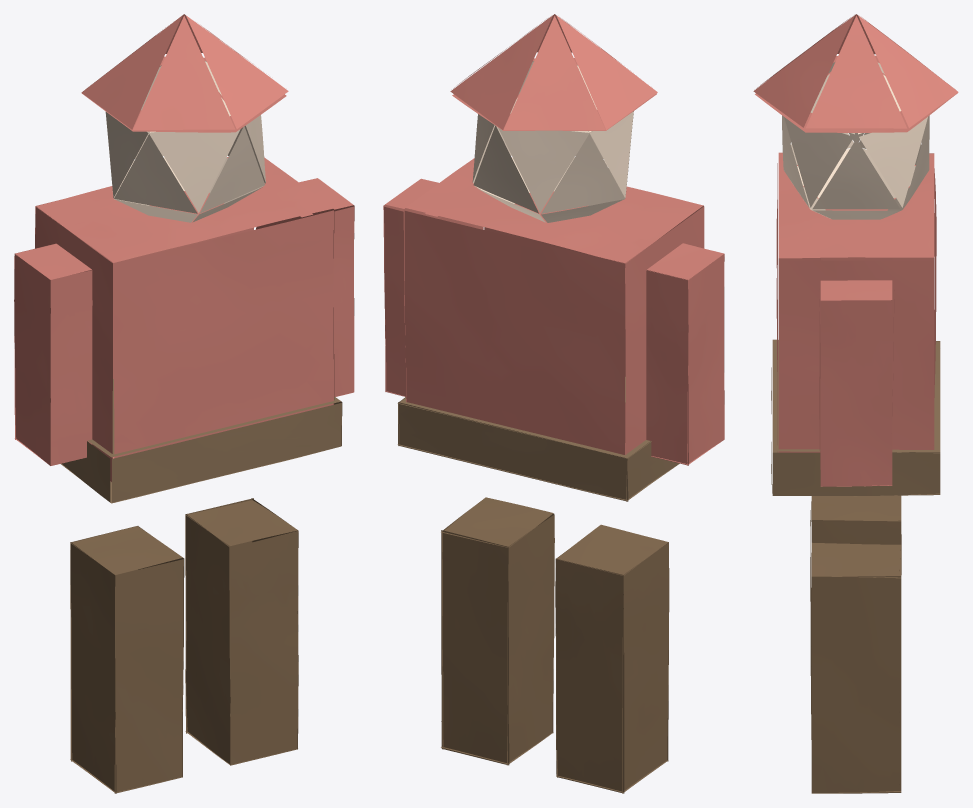
The model's file is settler.glb.
The picture shows the model from 3 angles, left to right: view 1: azimuth 30°, elevation 25°; view 2: azimuth 150°, elevation 25°; view 3: azimuth 270°, elevation 25°; orthographic projection.
Visible parts, largest first — view 1: SettlerLegL; view 2: SettlerLegL; view 3: SettlerLegL.
Part boxes in pixels (x1,y1,x2,y2): SettlerLegL: (14,14,354,793); SettlerLegL: (383,14,724,793); SettlerLegL: (753,14,958,793).
Bounding box in the file's own units: 0.5832 × 1.35 × 0.3427.
